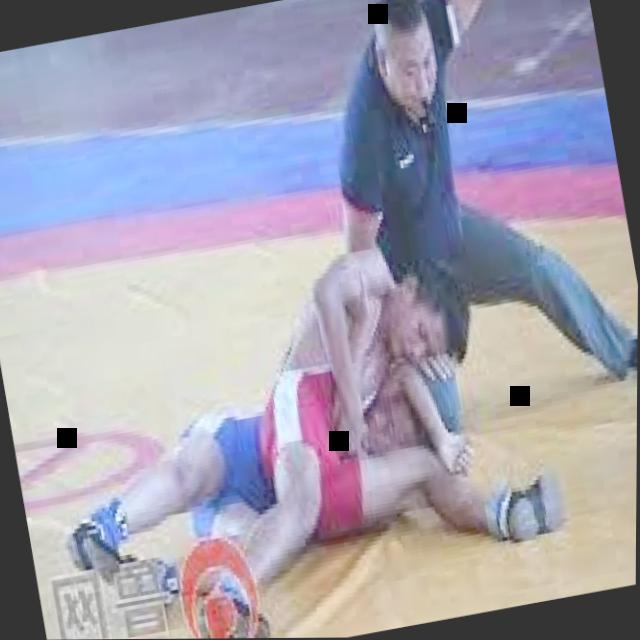Fall-Detected: (11, 196, 551, 640)
